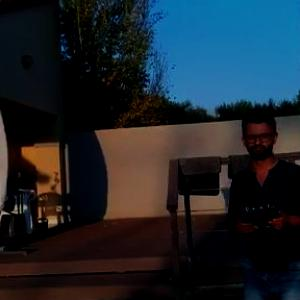follow: (223, 102, 300, 299)
